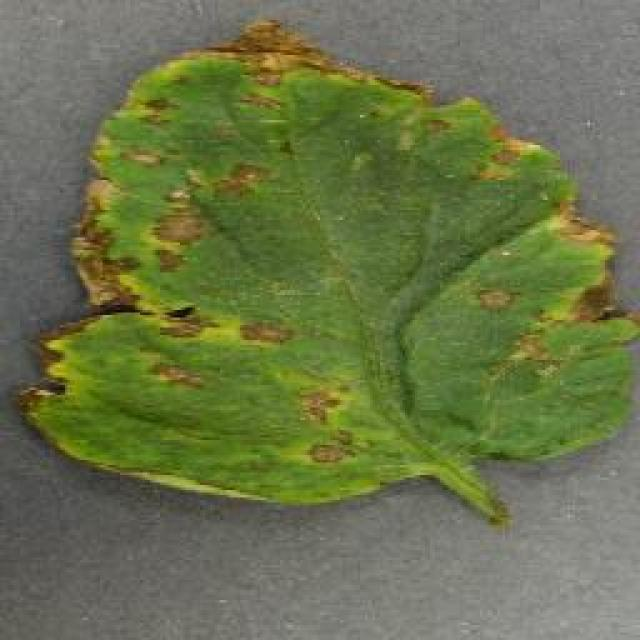Tomato___Bacterial_spot: (8, 14, 638, 529)
